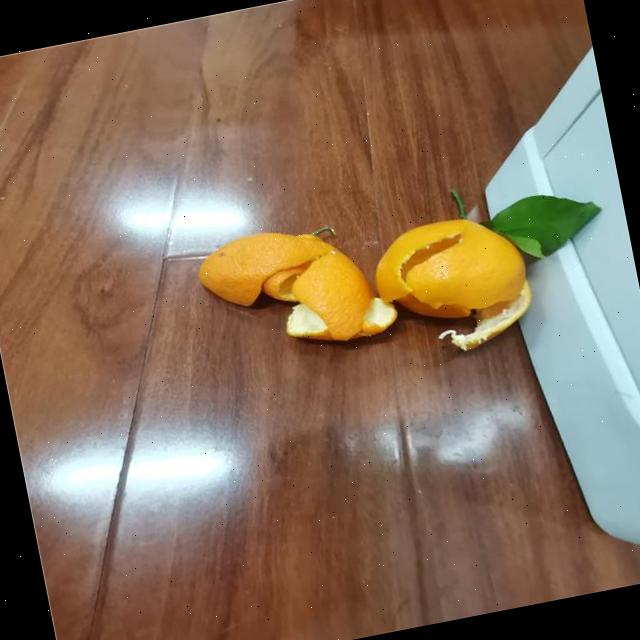orange-peel: (366, 205, 532, 332), (190, 217, 346, 316)
